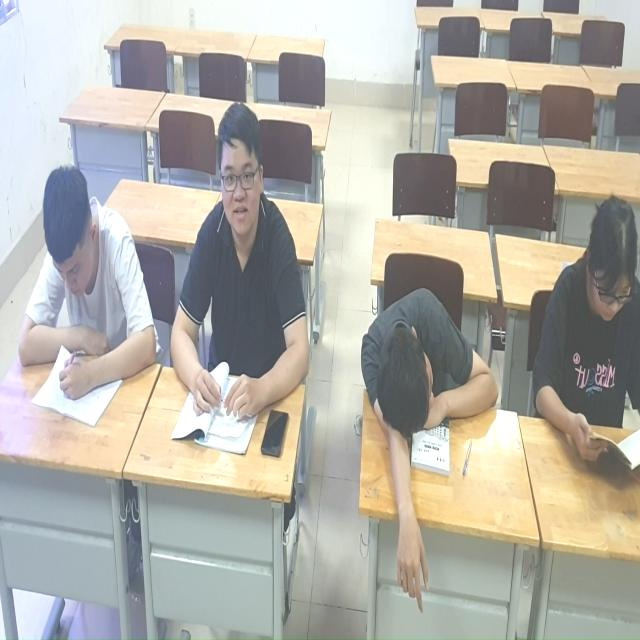read: (166, 104, 313, 466), (7, 156, 156, 438), (530, 194, 640, 503)
sleep: (350, 250, 505, 606)
